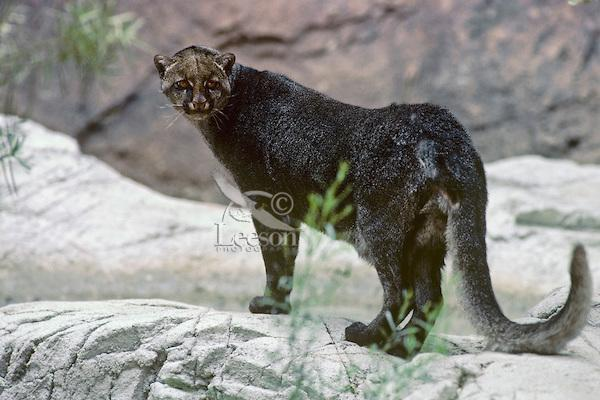Jaguarundi: (146, 40, 594, 364)
